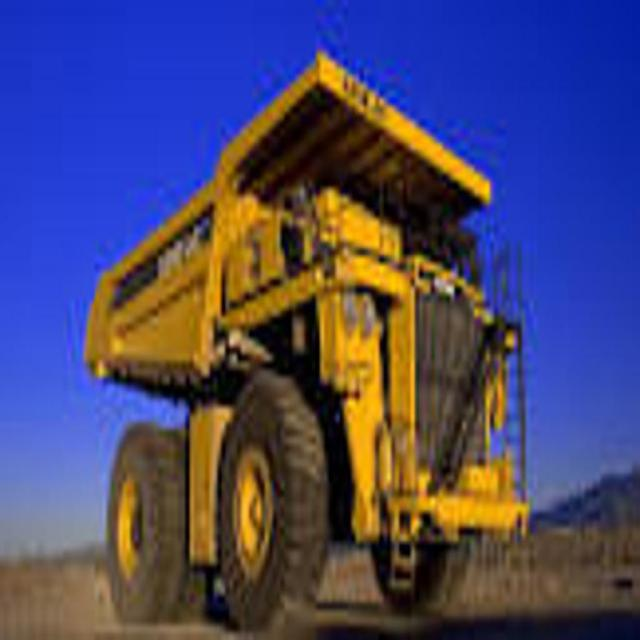dump_truck: (88, 51, 533, 620)
